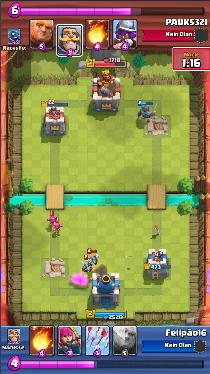ally_knight: (138, 104, 156, 120)
enemy_archer: (52, 223, 61, 234), (48, 216, 54, 226)
enemy_minion: (82, 263, 93, 272), (89, 256, 97, 265)
